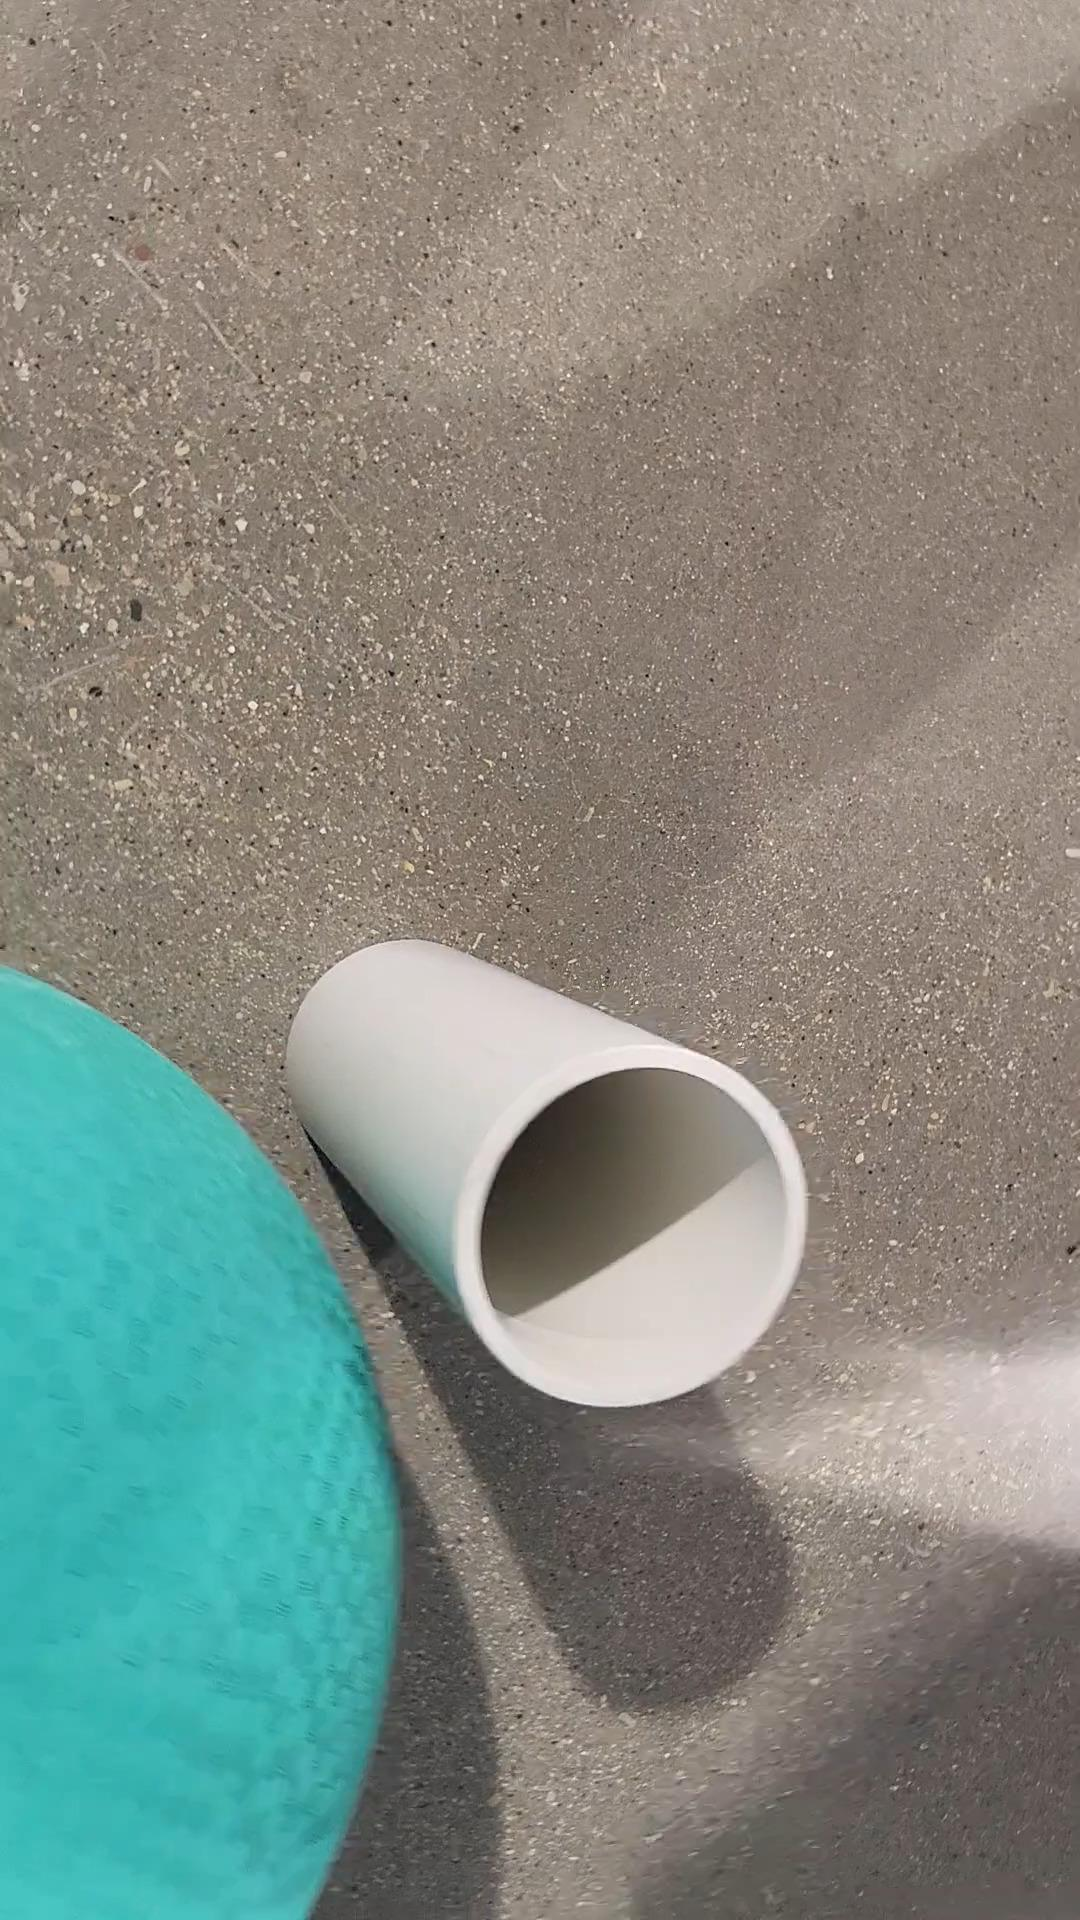algae: (0, 960, 406, 1920)
coral: (298, 938, 811, 1410)
